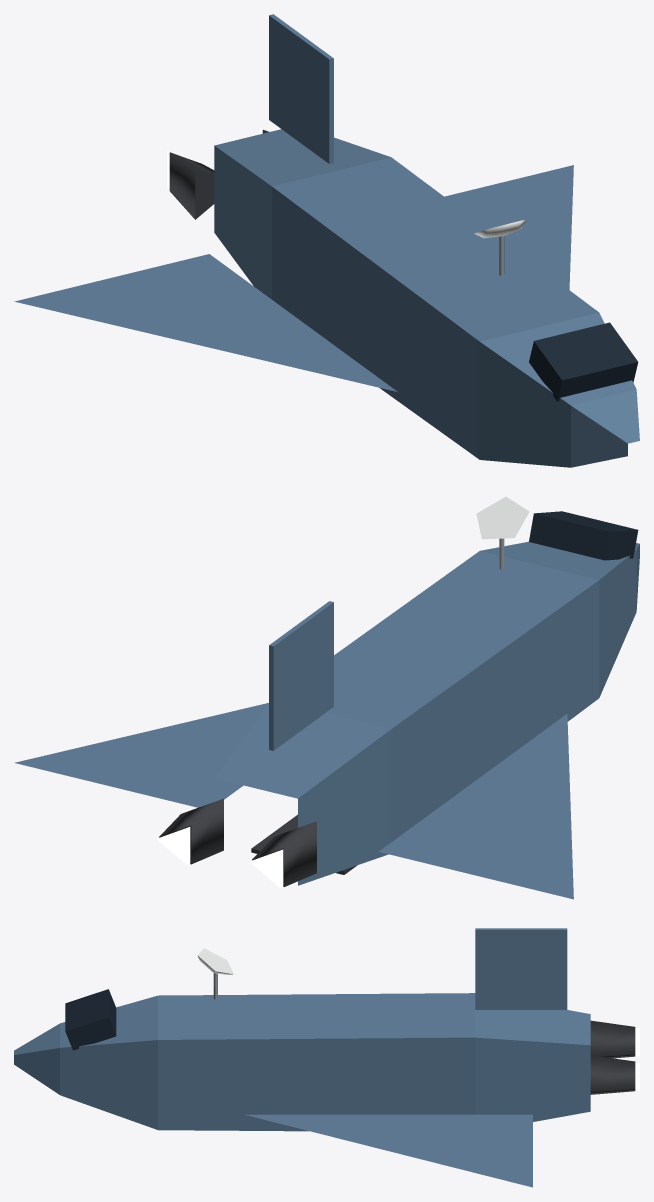
File: space_ship_shuttle_mk6_lod2.glb
3 views of the same model, one above another, from view 1: azimuth 30°, elevation 25°; view 2: azimuth 150°, elevation 25°; view 3: azimuth 270°, elevation 25° (orthographic). The views are drawn at different scales.
Parts seen in each view (by area): view 1: body, engine_1, antenna_0; view 2: body, engine_0, engine_1, antenna_0; view 3: body, engine_0, engine_1, antenna_0.
Part boxes in pixels (left/top/right/bottom): body: left=14, top=14, right=639, bottom=467; engine_1: left=167, top=151, right=214, bottom=219; antenna_0: left=474, top=220, right=526, bottom=275; body: left=14, top=511, right=639, bottom=899; engine_0: left=157, top=798, right=223, bottom=865; engine_1: left=250, top=821, right=316, bottom=887; antenna_0: left=476, top=496, right=529, bottom=569; body: left=14, top=928, right=590, bottom=1187; engine_0: left=590, top=1055, right=639, bottom=1094; engine_1: left=590, top=1020, right=639, bottom=1058; antenna_0: left=197, top=948, right=233, bottom=999.
Bounding box in the file's own units: 12.32 × 4.99 × 15.64.
